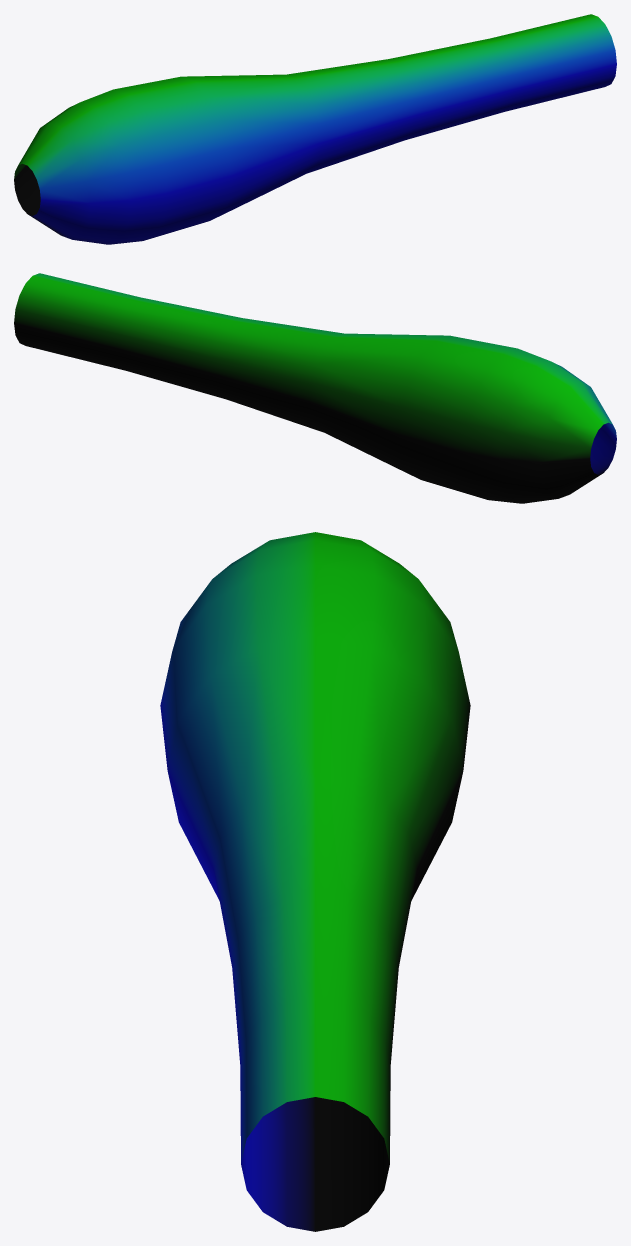
File: uni_razor_missile.fbx
3 renders of one model, top to bottom at view 1: azimuth 30°, elevation 25°; view 2: azimuth 150°, elevation 25°; view 3: azimuth 270°, elevation 25°, orthographic. The views are drawn at different scales.
Visible parts, largest first — view 1: uni_razor_missile; view 2: uni_razor_missile; view 3: uni_razor_missile.
Boxes of the visible parts, <box> form: uni_razor_missile: <box>14,14,616,244</box>; uni_razor_missile: <box>14,273,616,503</box>; uni_razor_missile: <box>160,532,470,1231</box>.
Bounding box in the file's own units: 13600 × 3200 × 3200.
